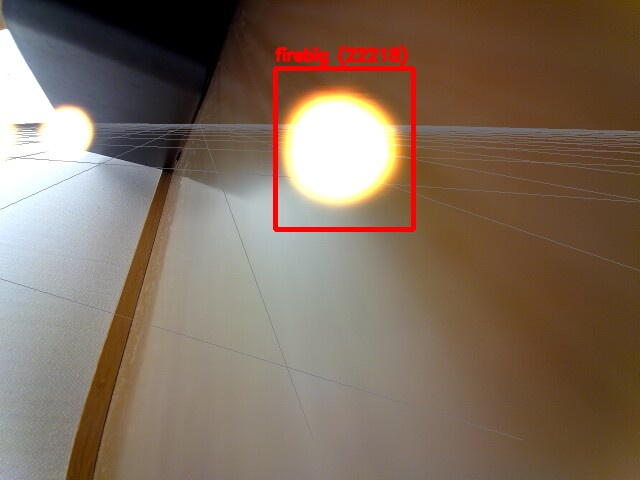firebig: (275, 68, 413, 229)
